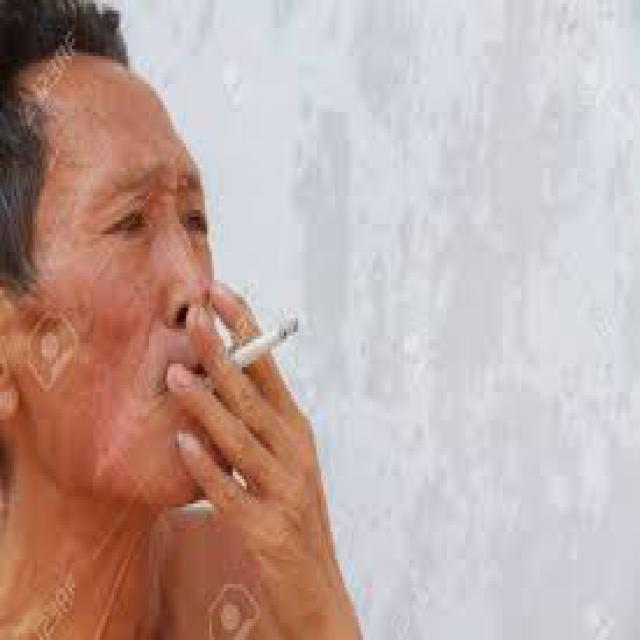smoking: (199, 296, 307, 377)
